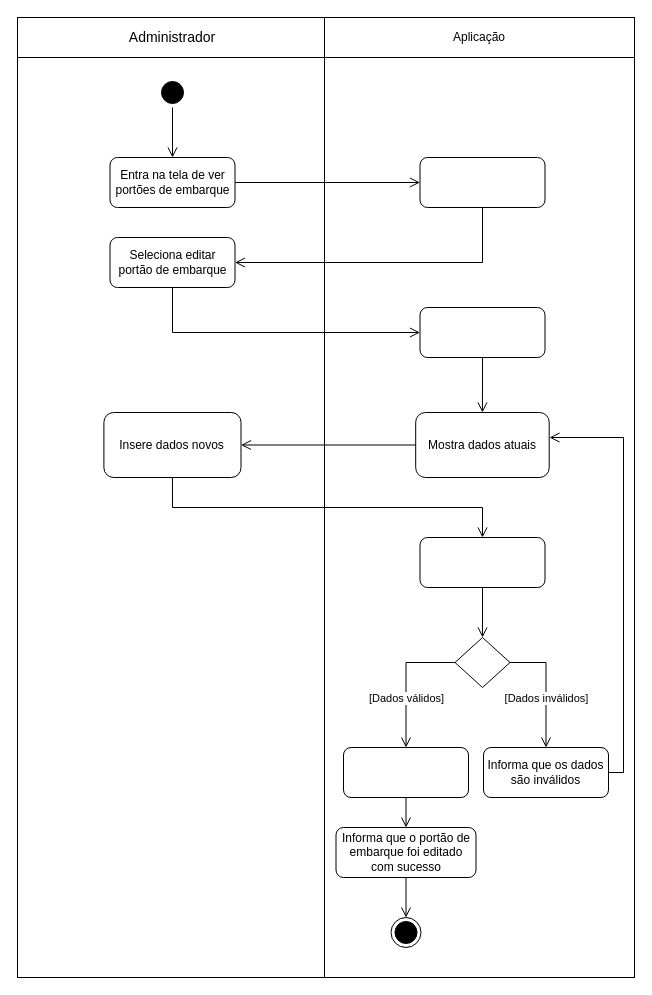
This 652x995 diagram has some shape labels left out. The shapes that lost their labels are listed below. From the top down, each one's centre as x and y in pixels, then its label:
At pixel 482 182: "Mostra portões de embarque".
At pixel 482 332: "Abre tela de editar portão de embarque".
At pixel 482 562: "Valida dados".
At pixel 405 772: "Edita portão de embarque".
